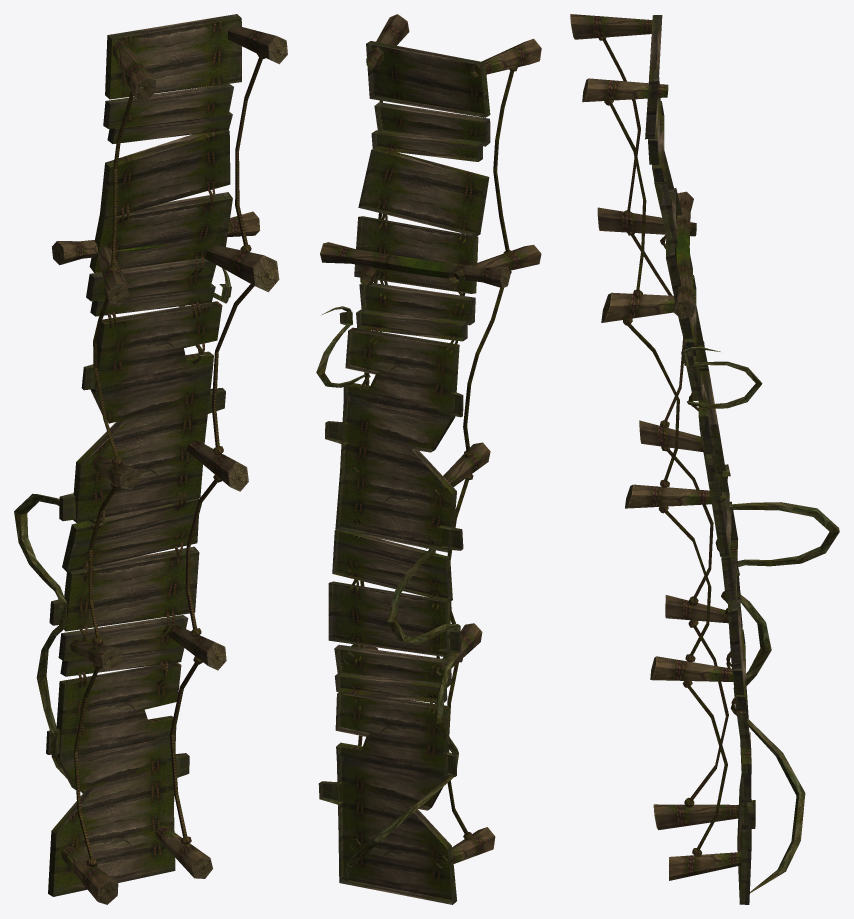
Rendered from jingling01_qiao05d.obj.
The picture shows the model from 3 angles, left to right: view 1: azimuth 30°, elevation 25°; view 2: azimuth 150°, elevation 25°; view 3: azimuth 270°, elevation 25°; orthographic projection. The views are drawn at different scales.
Parts seen in each view (by area): view 1: jingling01_qiao05b; view 2: jingling01_qiao05b; view 3: jingling01_qiao05b.
Part boxes in pixels (x1,y1,x2,y2): jingling01_qiao05b: [14, 14, 287, 904]; jingling01_qiao05b: [316, 14, 541, 904]; jingling01_qiao05b: [570, 14, 839, 904].
Bounding box in the file's own units: 463 × 1986 × 578.
4 materials, 4 textured.
